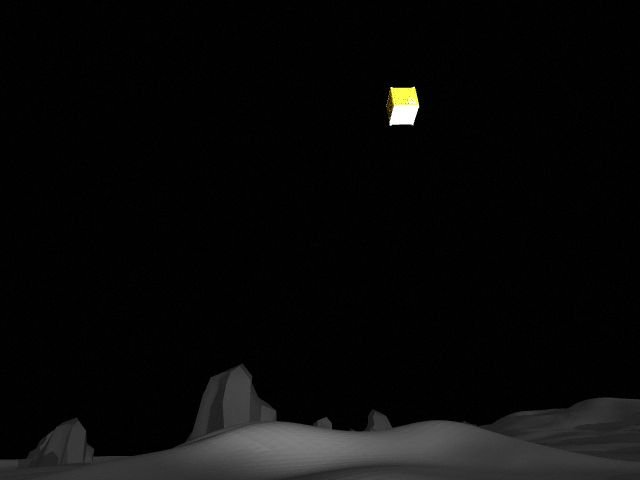cubesat: (384, 80, 422, 131)
